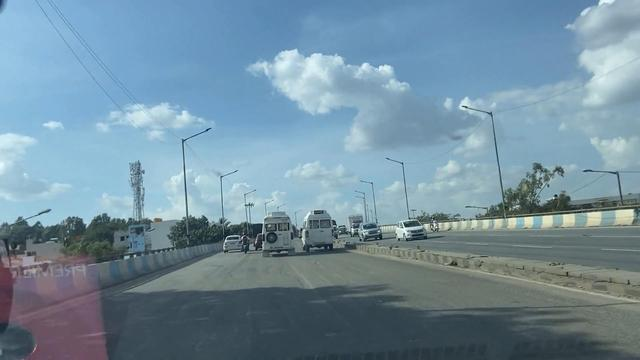HMV: (303, 205, 337, 256), (263, 212, 296, 258)
